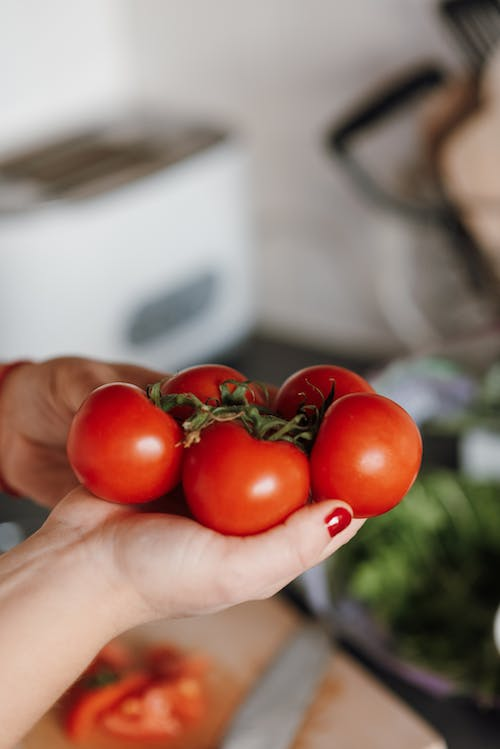knife: (210, 608, 336, 749)
